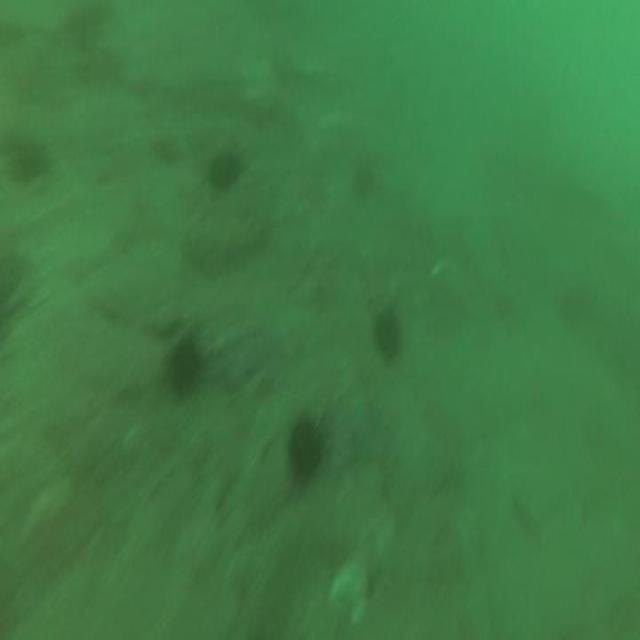echinus: (167, 345, 197, 395), (374, 311, 401, 365), (289, 424, 315, 477), (208, 154, 239, 190)
